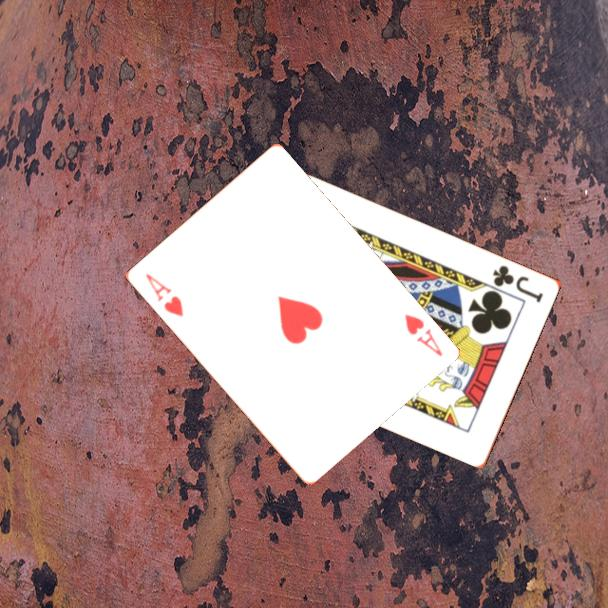c11: (489, 261, 546, 305)
h01: (141, 270, 186, 320), (401, 310, 445, 359)
